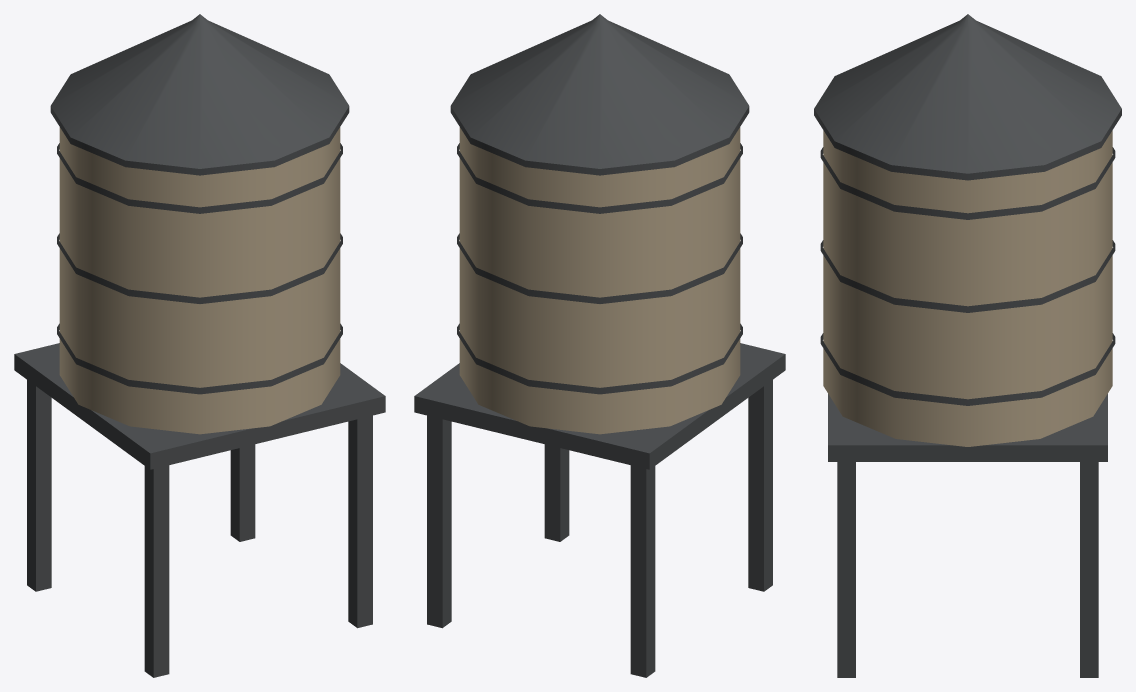
Rendered from roof-water-tank.glb.
3 renders of one model, left to right at view 1: azimuth 30°, elevation 25°; view 2: azimuth 150°, elevation 25°; view 3: azimuth 270°, elevation 25°, orthographic. The views are drawn at different scales.
Parts seen in each view (by area): view 1: tank; view 2: tank; view 3: tank.
Part boxes in pixels (<box>): tank: <box>14,14,385,677</box>; tank: <box>414,14,785,677</box>; tank: <box>814,14,1121,677</box>.
Bounding box in the file's own units: 3.3 × 7.2 × 3.3.
